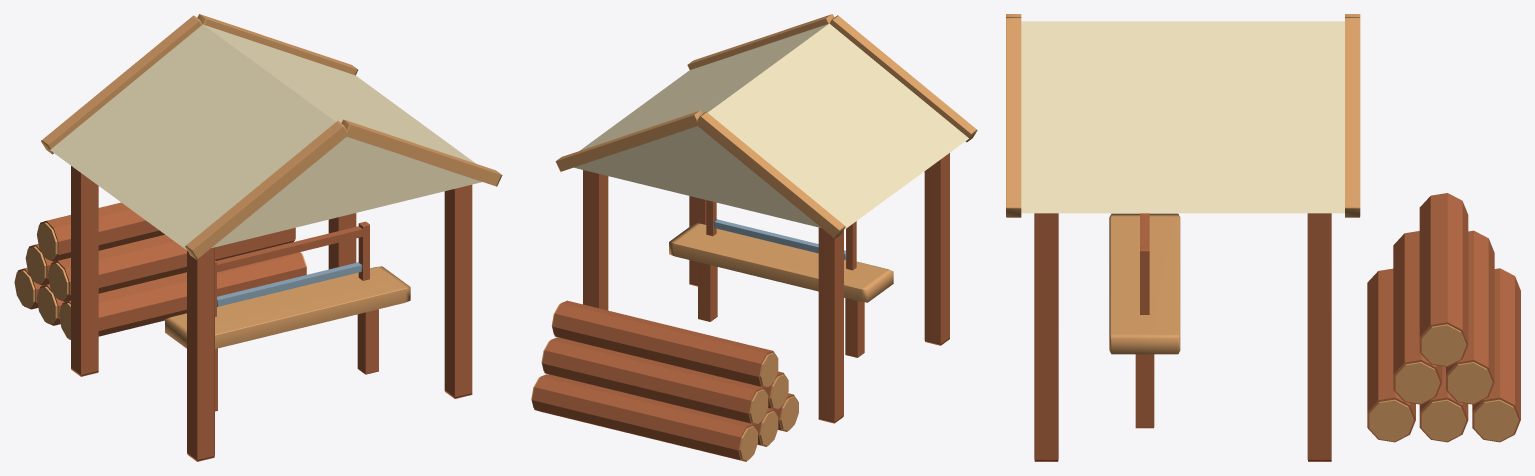
Rendered from timber-workshop.glb.
3 views of the same model, side by side, from view 1: azimuth 30°, elevation 25°; view 2: azimuth 150°, elevation 25°; view 3: azimuth 270°, elevation 25° (orthographic). The views are drawn at different scales.
Visible parts, largest first — view 1: Pitched roof.001, Saw table, Timber-frame post.002, Stored log, Timber-frame post, Timber-frame post.001, Stored log.003, Roof trim.004, Stored log.005, Roof trim.006, Roof trim.005, Saw frame (+10 smaller); view 2: Pitched roof.001, Stored log.004, Stored log.005, Stored log.002, Saw table, Timber-frame post.001, Timber-frame post, Timber-frame post.003, Roof trim.006, Roof trim.004, Roof trim.007, Roof trim.005 (+11 smaller); view 3: Pitched roof.001, Saw table, Stored log.005, Timber-frame post.002, Timber-frame post.003, Stored log.003, Stored log, Stored log.002, Stored log.004, Roof trim.005, Roof trim.007, Sawhorse leg.001 (+8 smaller).
Boxes of the visible parts, x1,y1,x2,y2 form: Pitched roof.001: (50,24,481,250); Saw table: (165,266,410,348); Timber-frame post.002: (444,184,472,398); Stored log: (62,252,305,339); Timber-frame post: (187,247,214,461); Timber-frame post.001: (71,166,98,376); Stored log.003: (51,228,294,301); Roof trim.004: (185,121,347,259); Stored log.005: (40,202,164,261); Roof trim.006: (41,15,202,154); Roof trim.005: (341,119,502,186); Saw frame: (215,226,362,272); Pitched roof.001: (574,23,968,229); Stored log.004: (542,337,766,424); Stored log.005: (552,300,776,388); Stored log.002: (532,374,756,461); Saw table: (669,223,893,302); Timber-frame post.001: (818,227,843,423); Timber-frame post: (924,153,949,345); Timber-frame post.003: (583,170,608,310); Roof trim.006: (697,112,845,238); Roof trim.004: (829,15,977,142); Roof trim.007: (555,110,702,171); Roof trim.005: (687,14,834,69); Pitched roof.001: (1021,21,1344,213); Saw table: (1109,213,1180,354); Stored log.005: (1419,193,1468,366); Timber-frame post.002: (1034,213,1058,461); Timber-frame post.003: (1307,213,1331,461); Stored log.003: (1393,231,1442,404); Stored log: (1367,268,1415,442); Stored log.002: (1472,268,1520,442); Stored log.004: (1446,230,1494,404); Roof trim.005: (1006,17,1021,217); Roof trim.007: (1345,17,1360,217); Sawhorse leg.001: (1135,354,1154,428).
Size of the model in its own units: 3.87 by 3.71 by 4.71.
